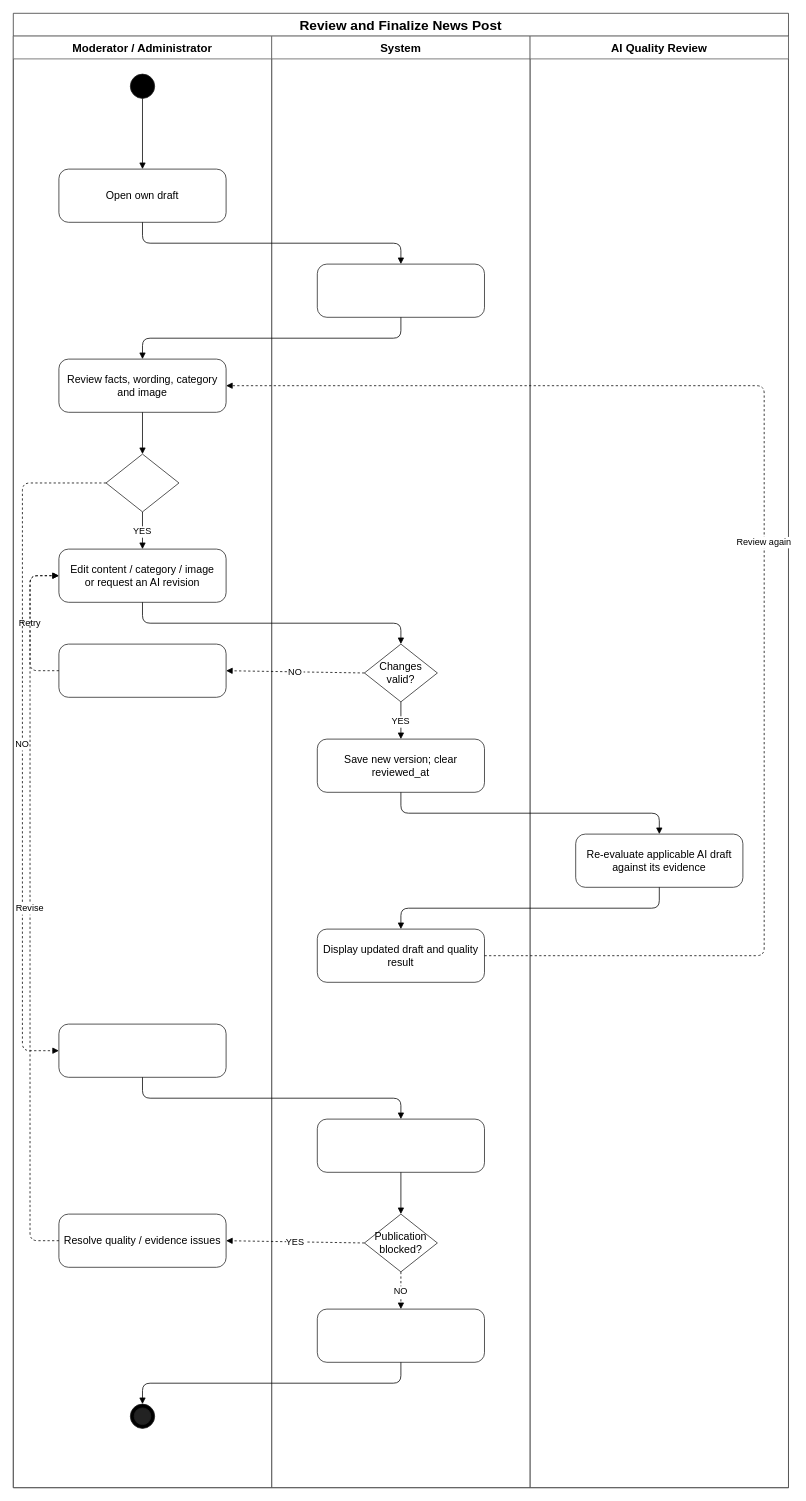
This 806x1501 diagram has some shape labels left out. The centre of each missing label's shape, as x and y in pixels:
Changes needed?: (142,482)
Confirm review of current version: (142,1050)
Correct validation errors: (142,670)
Keep reviewed draft ready for publication checks: (400,1335)
Load content, sources, version and quality assessment: (400,290)
Record reviewed_at for owned draft: (400,1145)
